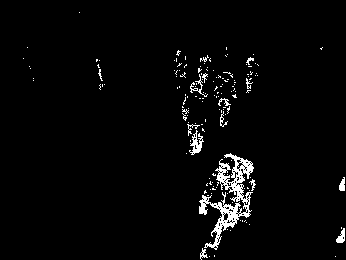person: (201, 150, 255, 257), (180, 79, 208, 156), (212, 69, 237, 129)
